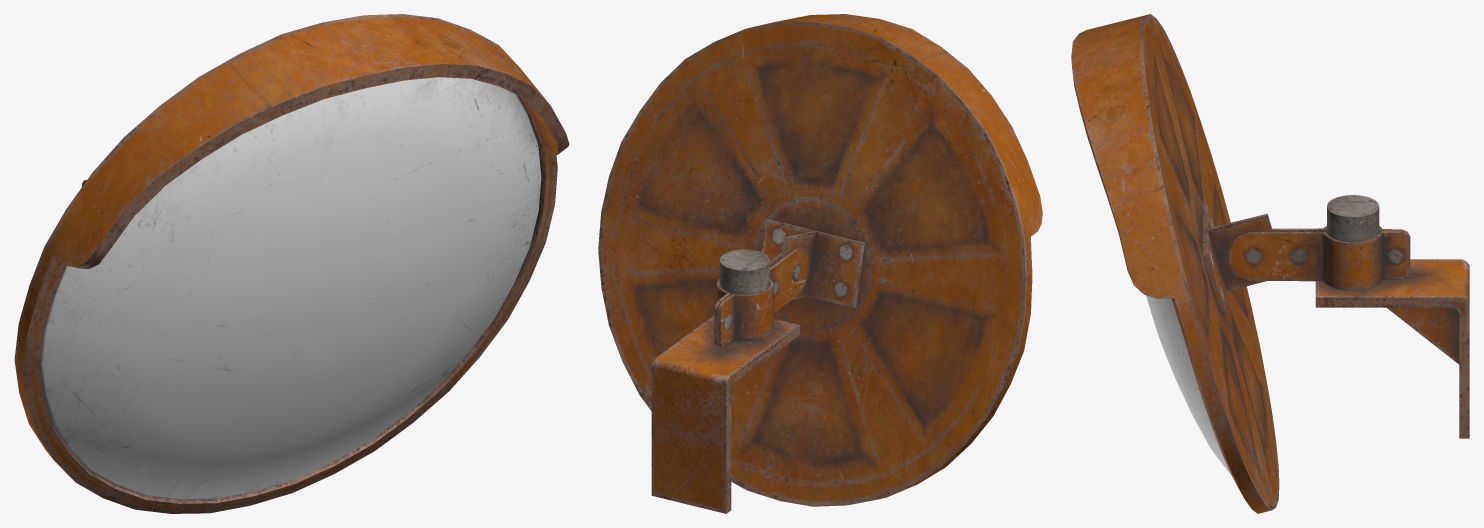
The model's file is ConvexMirror_01a_snaps019.fbx.
The picture shows the model from 3 angles, left to right: view 1: azimuth 30°, elevation 25°; view 2: azimuth 150°, elevation 25°; view 3: azimuth 270°, elevation 25°; orthographic projection. The views are drawn at different scales.
Parts seen in each view (by area): view 1: ConvexMirror_01a_snaps019_LOD0; view 2: ConvexMirror_01a_snaps019_LOD0; view 3: ConvexMirror_01a_snaps019_LOD0.
Part boxes in pixels (x1,y1,x2,y2): ConvexMirror_01a_snaps019_LOD0: (14,14,569,513); ConvexMirror_01a_snaps019_LOD0: (598,14,1042,513); ConvexMirror_01a_snaps019_LOD0: (1071,14,1469,513).
Size of what is drawn, in the model's own units: 59.9 by 58.2 by 46.75.
